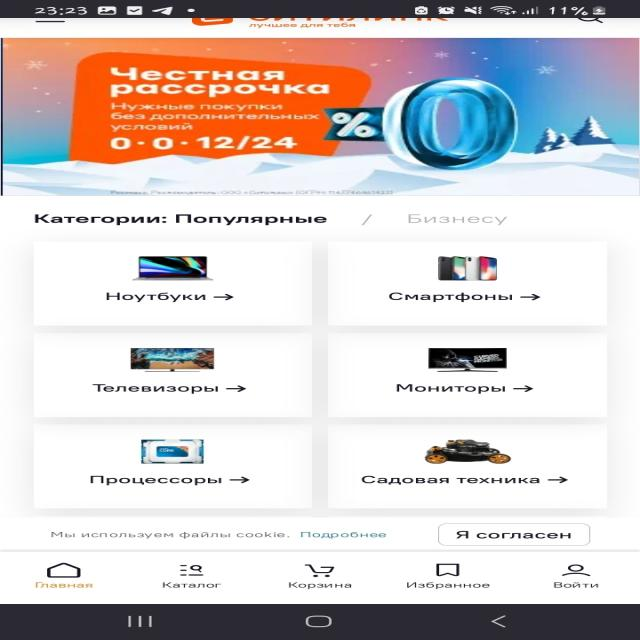button: (440, 523, 589, 546)
site: (0, 517, 640, 551)
